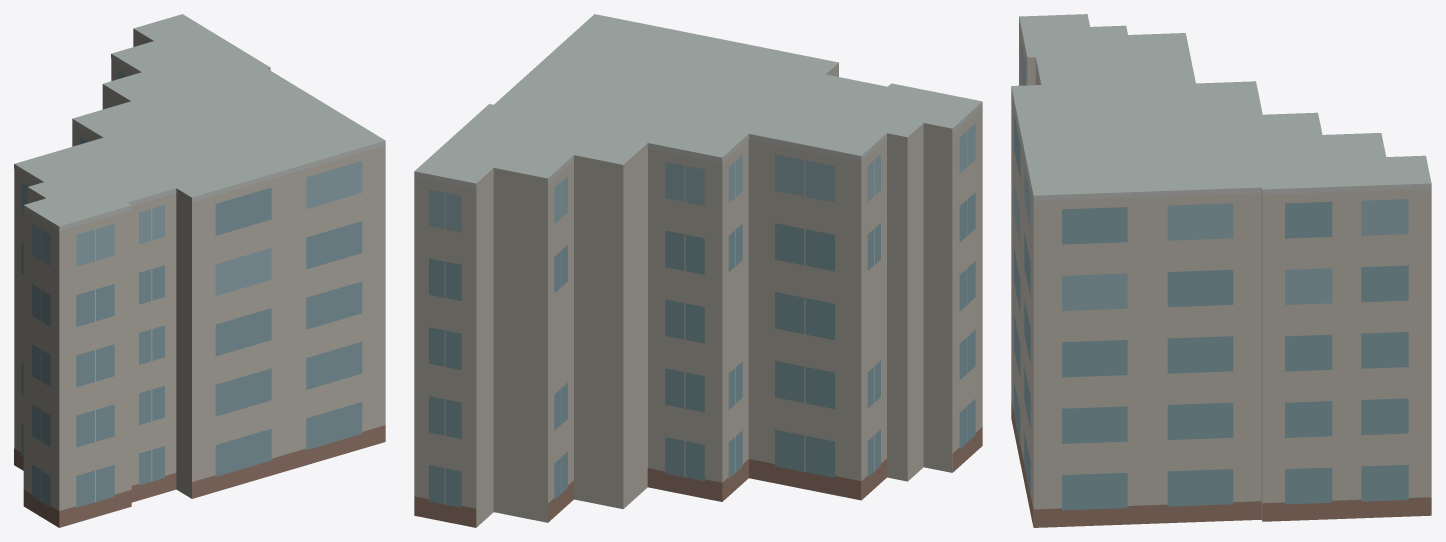
File: survey-upis-33007072.glb
The picture shows the model from 3 angles, left to right: view 1: azimuth 30°, elevation 25°; view 2: azimuth 150°, elevation 25°; view 3: azimuth 270°, elevation 25°; orthographic projection. The views are drawn at different scales.
Parts seen in each view (by area): view 1: survey-upis-33007072.tmp; view 2: survey-upis-33007072.tmp; view 3: survey-upis-33007072.tmp.
Boxes of the visible parts, <box> form: survey-upis-33007072.tmp: <box>14,14,385,527</box>; survey-upis-33007072.tmp: <box>414,14,982,527</box>; survey-upis-33007072.tmp: <box>1011,14,1431,527</box>.
Size of the model in its own units: 17.89 by 15.25 by 17.49.
